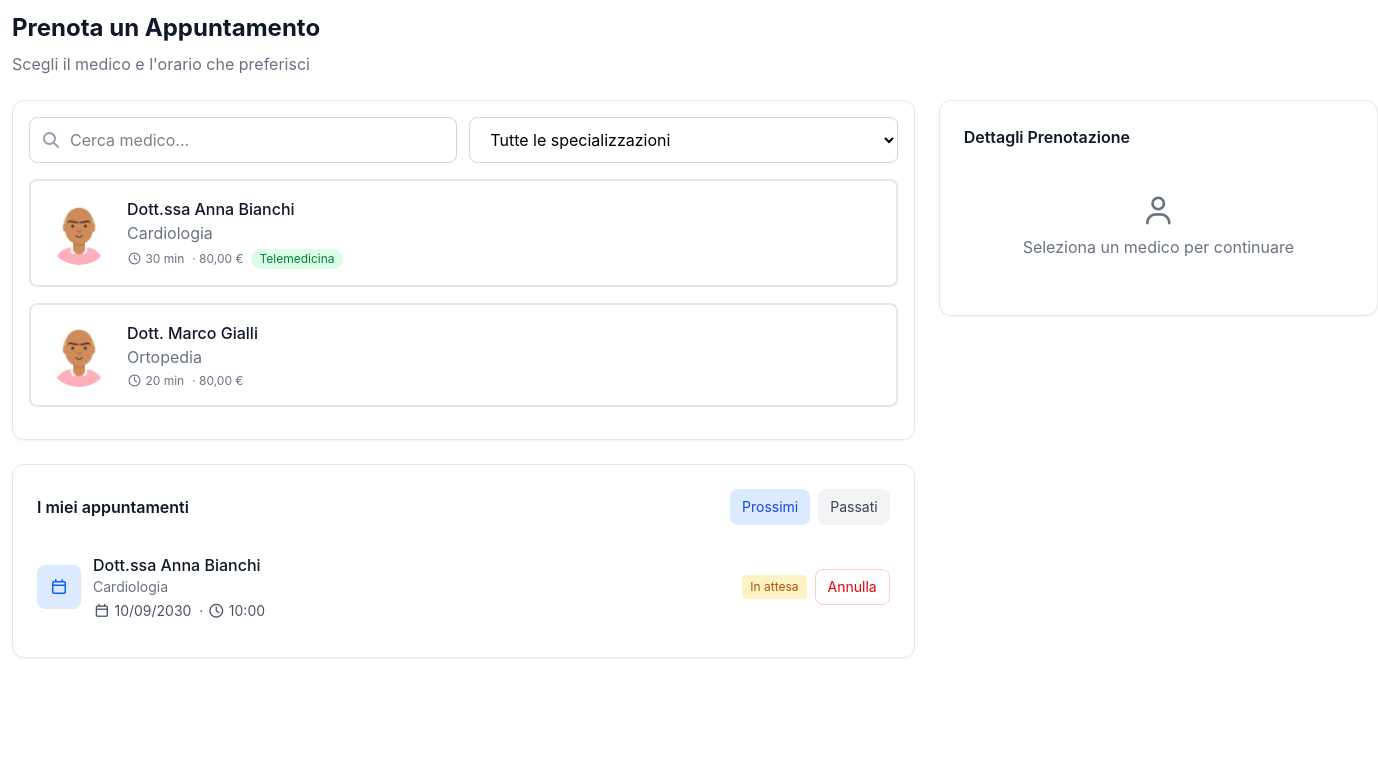
Test case: Prenotazione visite (paziente) › selezionare un medico apre il form di prenotazione
Click the button that starts with "Dott.ssa Anna Bianchi" at coordinates (79, 233), box [29, 179, 898, 287]
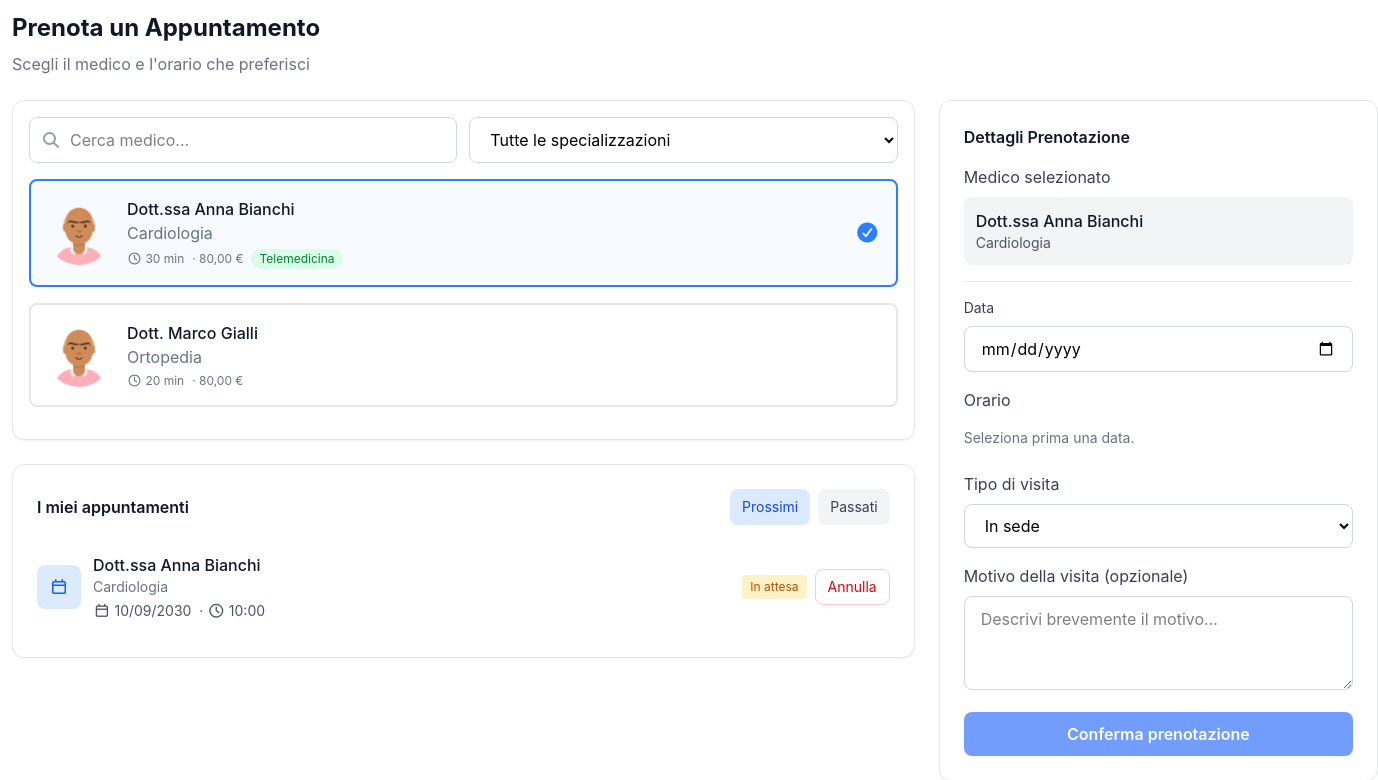
Result: the form is shown at [964, 165, 1353, 756]
Result: the date field with id "booking-date" is shown at [964, 326, 1353, 372]
